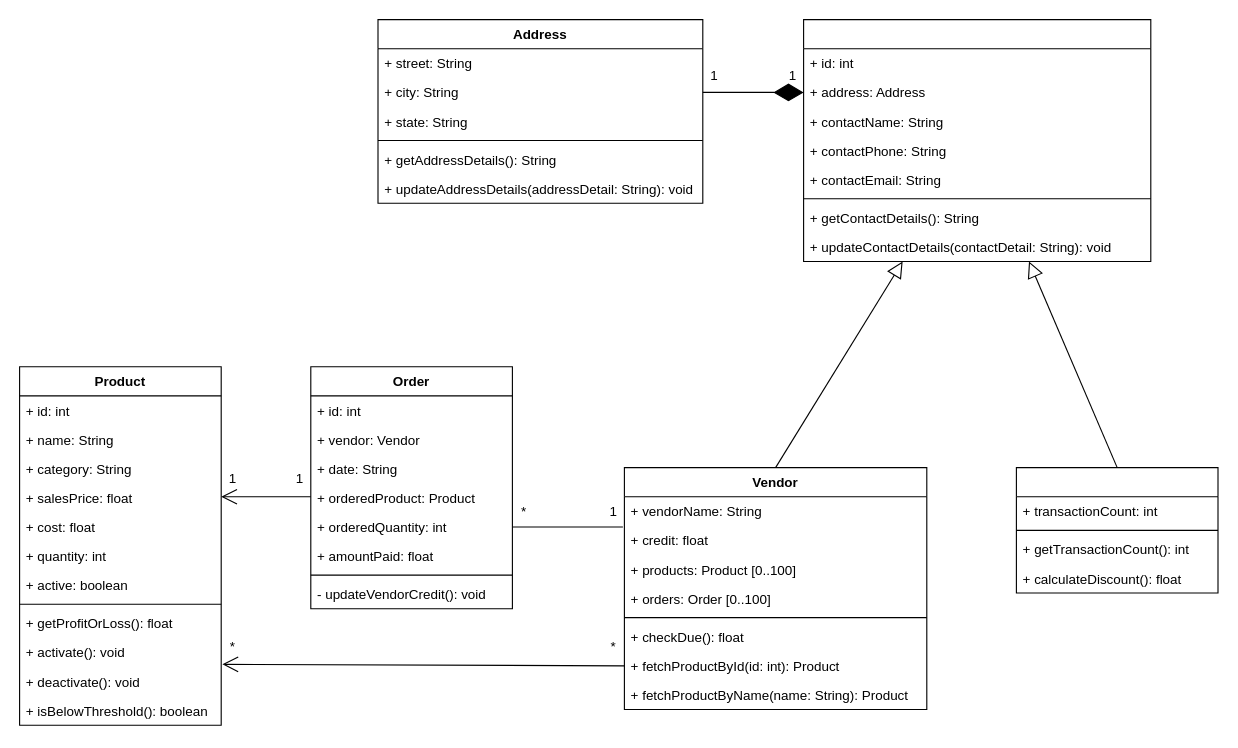
This 1238x748 diagram has some shape labels left out. The box of each missing label's shape, as (x1, y1, x2, y2) in pixels:
BusinessPartner: (802, 18, 1151, 262)
Customer: (1015, 466, 1218, 593)
